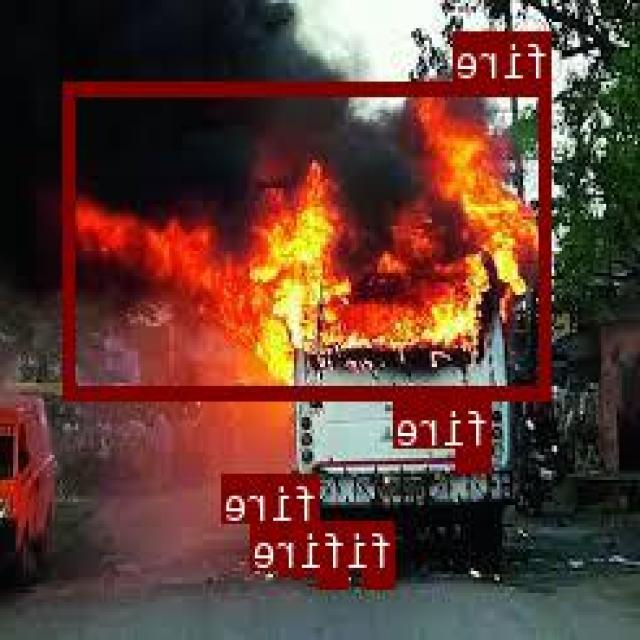fire: (67, 80, 552, 397), (282, 521, 320, 572), (458, 448, 493, 470), (365, 569, 396, 585), (322, 569, 351, 585)
